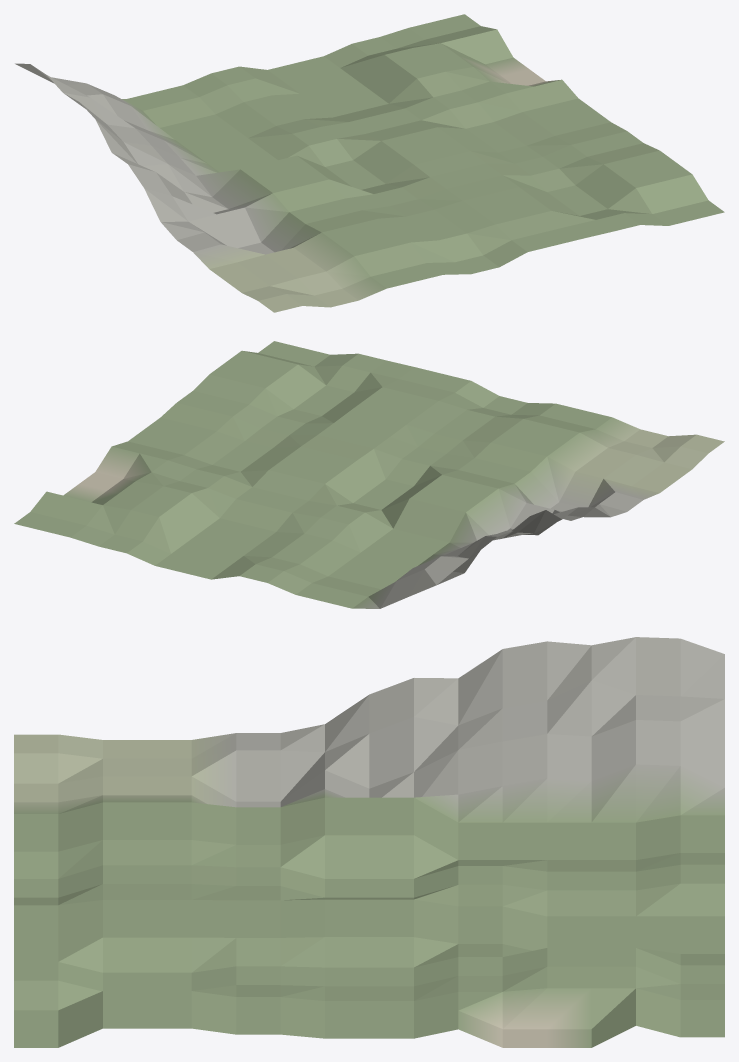
3 renders of one model, top to bottom at view 1: azimuth 30°, elevation 25°; view 2: azimuth 150°, elevation 25°; view 3: azimuth 270°, elevation 25°, orthographic. The views are drawn at different scales.
Bounding box in the file's own units: 32 × 6.32 × 32.
